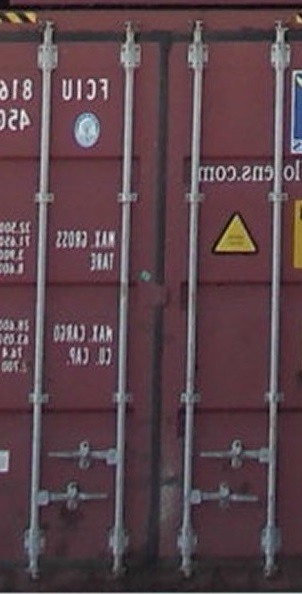container_door: (5, 5, 287, 588)
